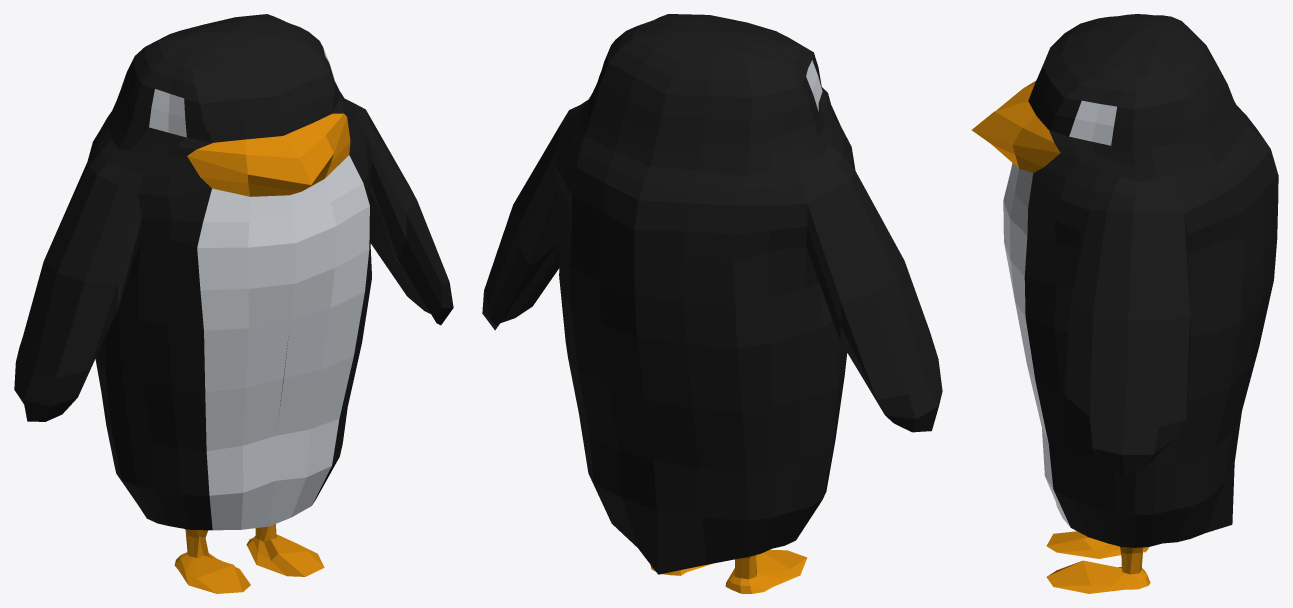
The model's file is penguin.fbx.
The picture shows the model from 3 angles, left to right: view 1: azimuth 30°, elevation 25°; view 2: azimuth 150°, elevation 25°; view 3: azimuth 270°, elevation 25°; orthographic projection. The views are drawn at different scales.
Parts seen in each view (by area): view 1: Sphere; view 2: Sphere; view 3: Sphere.
Boxes of the visible parts, left/top/right/bottom form: Sphere: left=14, top=14, right=453, bottom=593; Sphere: left=482, top=14, right=942, bottom=593; Sphere: left=971, top=14, right=1278, bottom=593.
Bounding box in the file's own units: 227 × 266 × 140.
